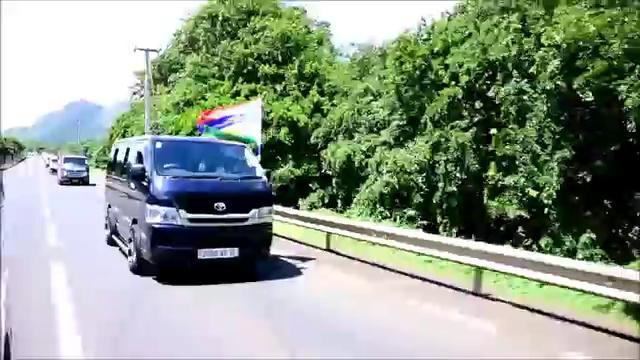van: (101, 135, 279, 276)
